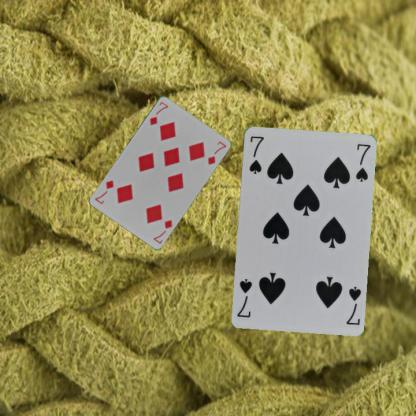7d: (147, 99, 169, 126), (151, 217, 173, 244)
7s: (246, 133, 265, 175), (343, 284, 362, 326)
